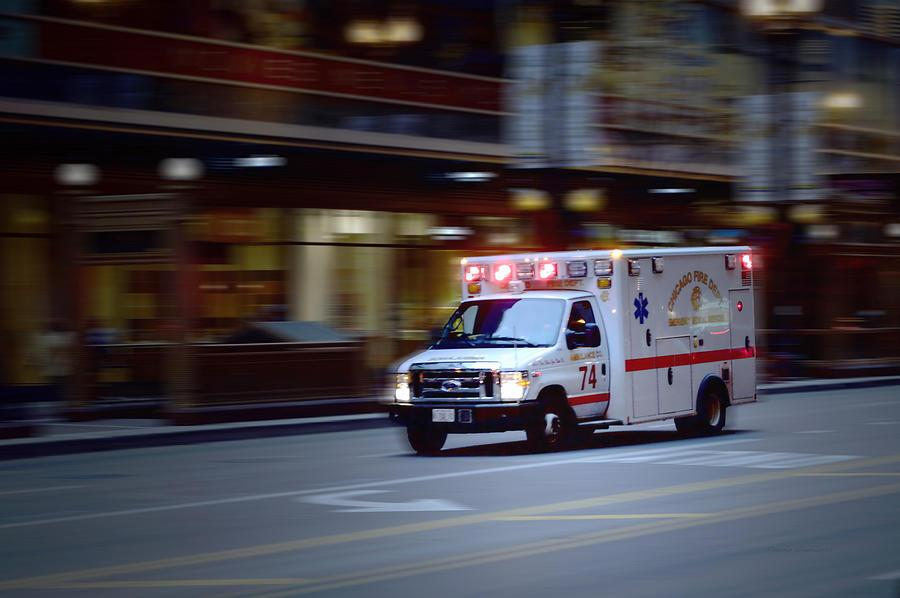ambulance_off: (386, 246, 760, 448)
